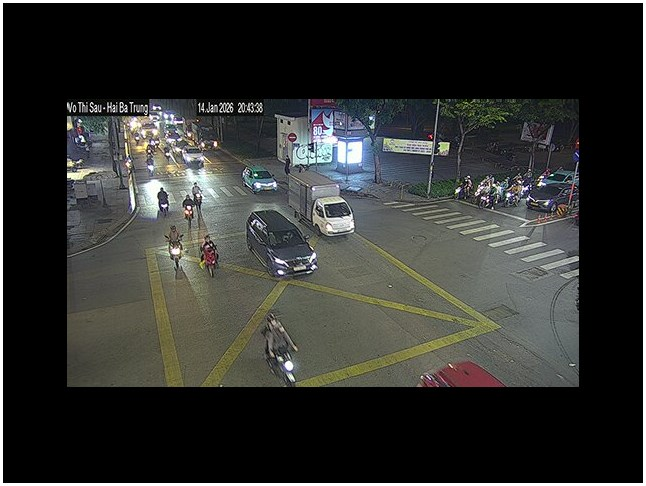car: (246, 207, 319, 278), (417, 359, 507, 387), (310, 195, 356, 237), (242, 165, 278, 194)
